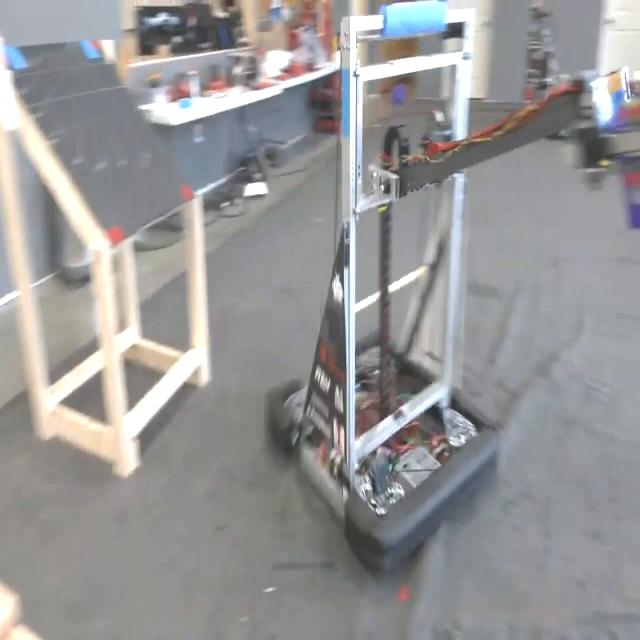frc_cube: (605, 79, 640, 243), (389, 79, 406, 109)
